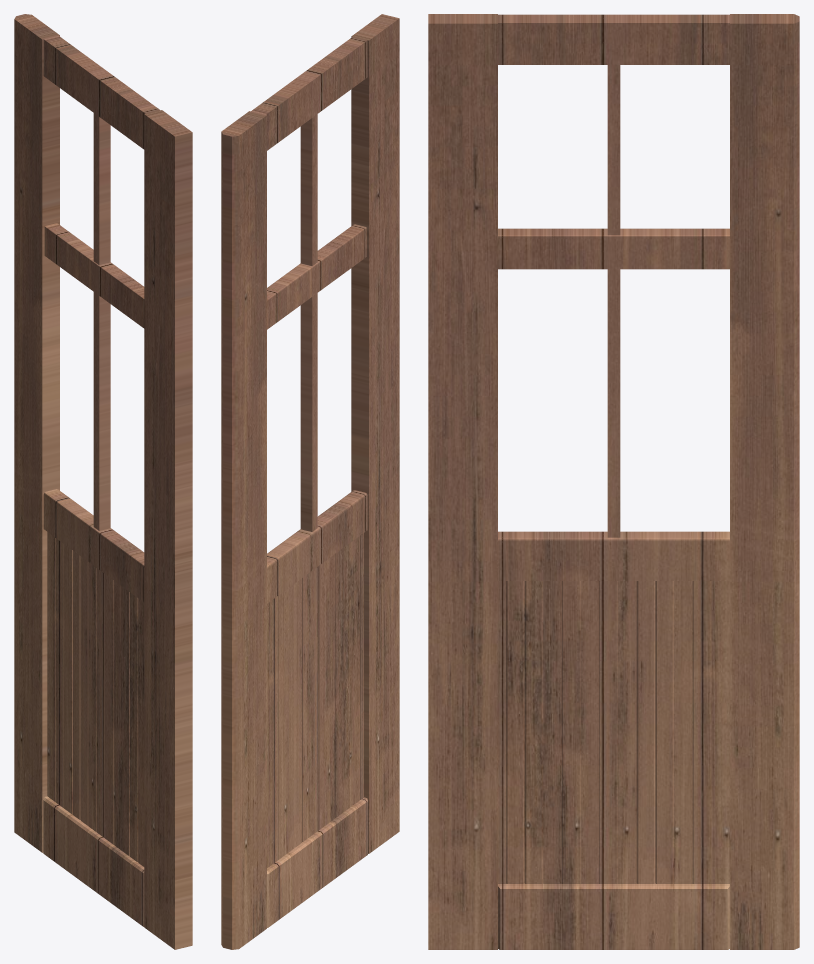
Rendered from door1_2.obj.
The picture shows the model from 3 angles, left to right: view 1: azimuth 30°, elevation 25°; view 2: azimuth 150°, elevation 25°; view 3: azimuth 270°, elevation 25°; orthographic projection. The views are drawn at different scales.
Parts seen in each view (by area): view 1: _Door_Double:pCube28 group62, group62 _Door_Double:pCube29, group62 _Door_Double:pCube39, group62 _Door_Double:pCube33, group62 _Door_Double:pCube32, group62 _Door_Double:pCube31, group62 _Door_Double:pCube34, group62 _Door_Double:pCube41, group62 _Door_Double:pCube42, group62 _Door_Double:pCube40, group62 _Door_Double:pCube35, group62 _Door_Double:pCube43 (+7 smaller); view 2: group62 _Door_Double:pCube29, _Door_Double:pCube28 group62, group62 _Door_Double:pCube39, group62 _Door_Double:pCube33, group62 _Door_Double:pCube32, group62 _Door_Double:pCube31, group62 _Door_Double:pCube34, group62 _Door_Double:pCube43, group62 _Door_Double:pCube40, group62 _Door_Double:pCube41, group62 _Door_Double:pCube42, group62 _Door_Double:pCube30 (+8 smaller); view 3: _Door_Double:pCube28 group62, group62 _Door_Double:pCube29, group62 _Door_Double:pCube33, group62 _Door_Double:pCube32, group62 _Door_Double:pCube31, group62 _Door_Double:pCube34, group62 _Door_Double:pCube39, group62 _Door_Double:pCube36, group62 _Door_Double:pCube37, group62 _Door_Double:pCube42, group62 _Door_Double:pCube44, group62 _Door_Double:pCube30 (+8 smaller).
Part boxes in pixels (<box>): _Door_Double:pCube28 group62: <box>144,110,192,949</box>; group62 _Door_Double:pCube29: <box>14,14,59,852</box>; group62 _Door_Double:pCube39: <box>93,113,110,530</box>; group62 _Door_Double:pCube33: <box>43,796,144,926</box>; group62 _Door_Double:pCube32: <box>43,35,159,149</box>; group62 _Door_Double:pCube31: <box>43,489,144,602</box>; group62 _Door_Double:pCube34: <box>44,223,144,328</box>; group62 _Door_Double:pCube41: <box>63,544,72,814</box>; group62 _Door_Double:pCube42: <box>104,574,113,843</box>; group62 _Door_Double:pCube40: <box>88,562,96,832</box>; group62 _Door_Double:pCube35: <box>47,532,55,802</box>; group62 _Door_Double:pCube43: <box>121,586,129,856</box>; group62 _Door_Double:pCube29: <box>221,111,266,949</box>; _Door_Double:pCube28 group62: <box>351,14,399,853</box>; group62 _Door_Double:pCube39: <box>300,114,317,531</box>; group62 _Door_Double:pCube33: <box>267,797,367,927</box>; group62 _Door_Double:pCube32: <box>251,37,367,150</box>; group62 _Door_Double:pCube31: <box>267,490,367,603</box>; group62 _Door_Double:pCube34: <box>267,224,366,329</box>; group62 _Door_Double:pCube43: <box>335,547,344,817</box>; group62 _Door_Double:pCube40: <box>302,572,311,841</box>; group62 _Door_Double:pCube41: <box>278,590,286,859</box>; group62 _Door_Double:pCube42: <box>319,560,327,829</box>; group62 _Door_Double:pCube30: <box>311,566,319,835</box>; _Door_Double:pCube28 group62: <box>428,14,497,949</box>; group62 _Door_Double:pCube29: <box>730,14,799,949</box>; group62 _Door_Double:pCube33: <box>498,883,729,949</box>; group62 _Door_Double:pCube32: <box>498,14,729,64</box>; group62 _Door_Double:pCube31: <box>498,531,729,580</box>; group62 _Door_Double:pCube34: <box>498,228,729,269</box>; group62 _Door_Double:pCube39: <box>607,65,620,537</box>; group62 _Door_Double:pCube36: <box>636,581,655,883</box>; group62 _Door_Double:pCube37: <box>692,581,711,883</box>; group62 _Door_Double:pCube42: <box>580,581,599,883</box>; group62 _Door_Double:pCube44: <box>524,581,543,883</box>; group62 _Door_Double:pCube30: <box>599,581,617,883</box>.
Bounding box in the file's own units: 5 × 220 × 80.
